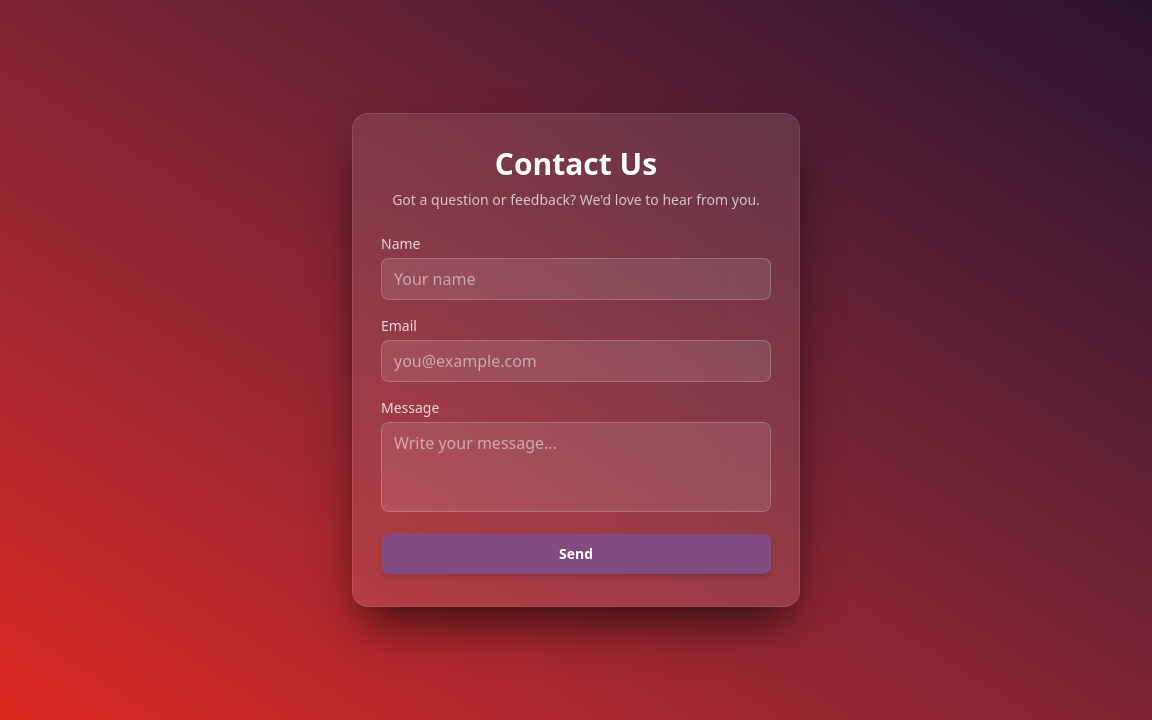
Test: Contact Page Basic Testing by Amisha › Should show toast on form submit
Type "Amisha" into the field with placeholder "Your name" at (576, 279), box [381, 258, 771, 300]
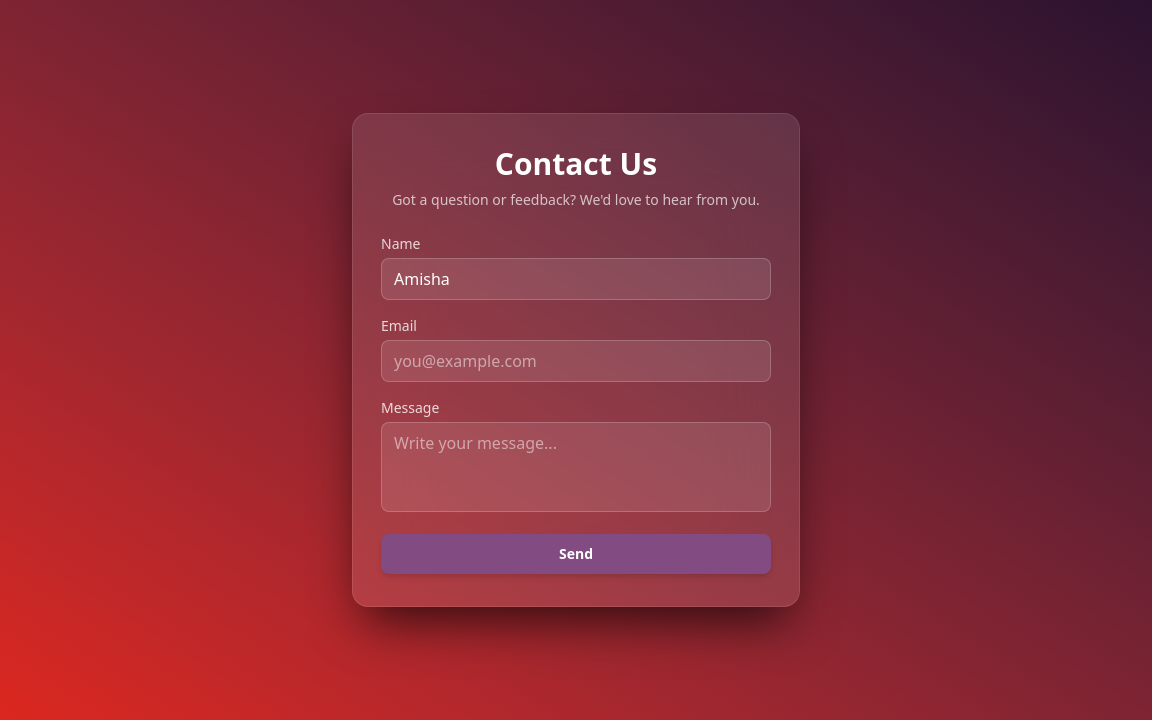
Type "amisha@example.com" into the field with placeholder "you@example.com" at (576, 361), box [381, 340, 771, 382]
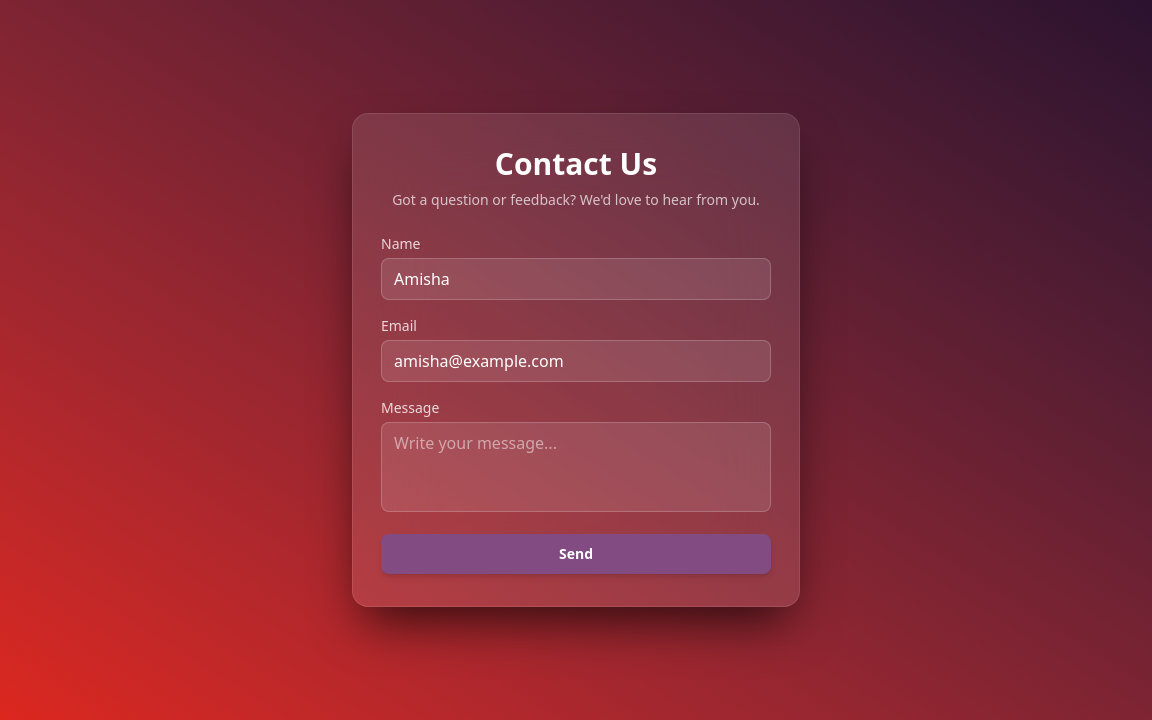
Type "Test message" into the text box with placeholder "Write your message..." at (576, 467), box [381, 422, 771, 512]
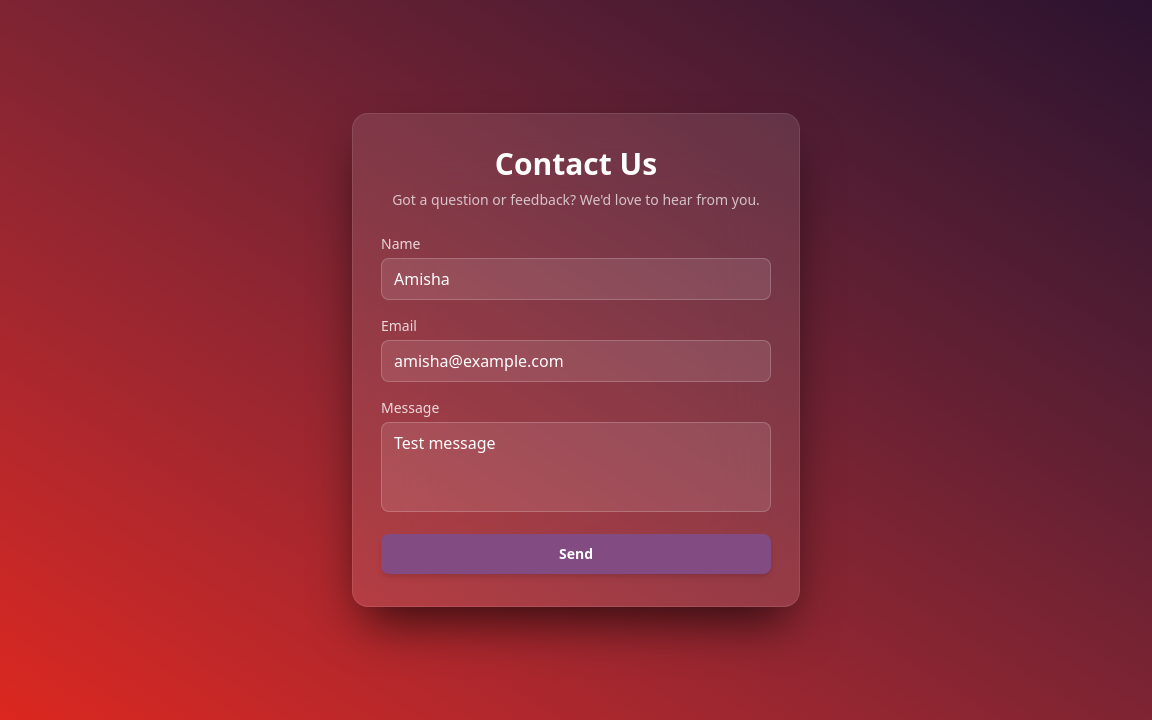
Click the button "Send" at (576, 554), box [381, 534, 771, 574]
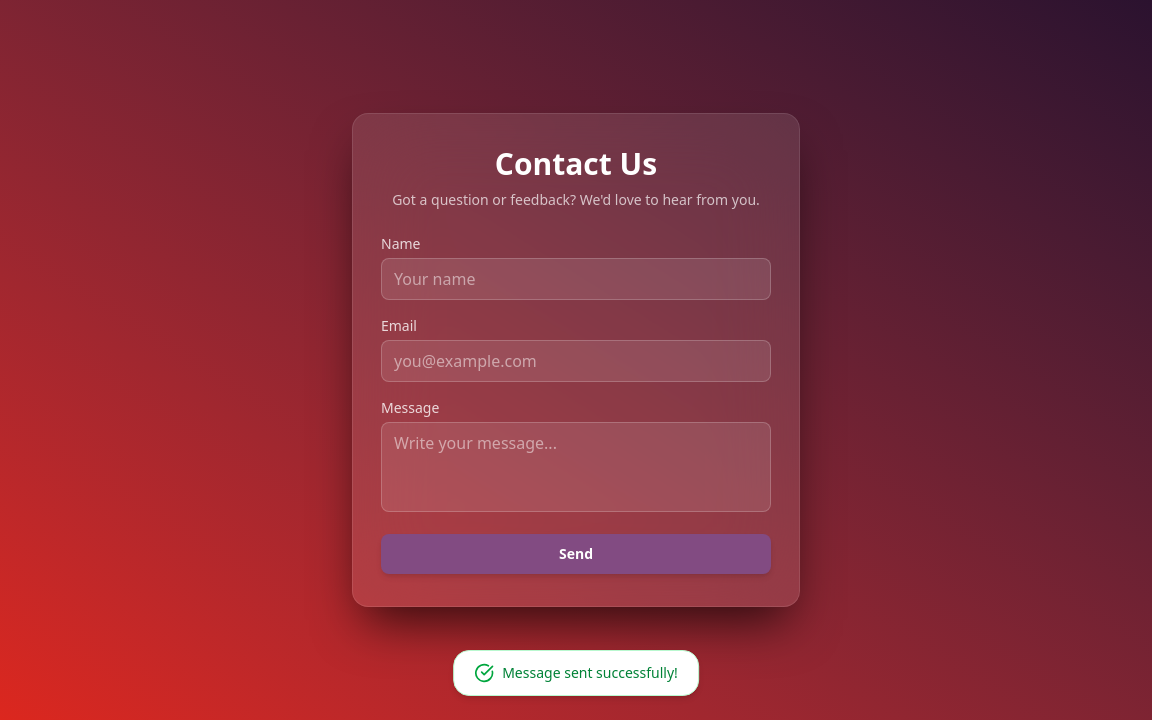
Now the text "Message sent successfully!" is shown, box [502, 663, 678, 683]
